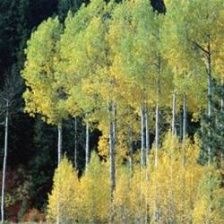neutral: (26, 12, 223, 223)
